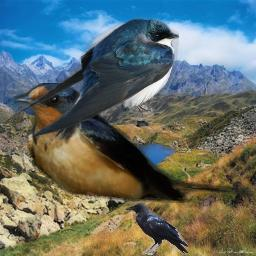Crow: (125, 202, 188, 255)
Swallow: (14, 83, 254, 203), (9, 17, 179, 140)
